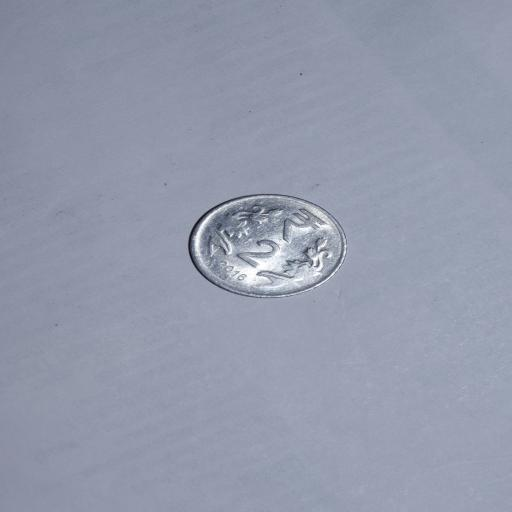rupee2: (187, 194, 347, 297)
